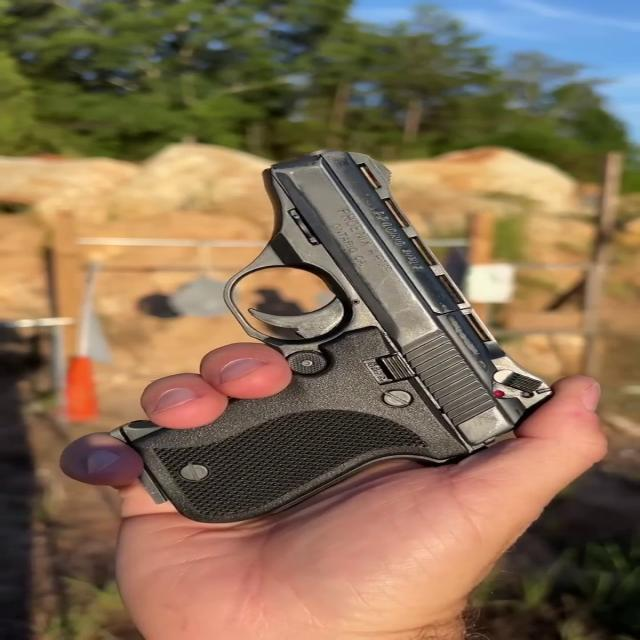Handgun: (115, 142, 556, 534)
